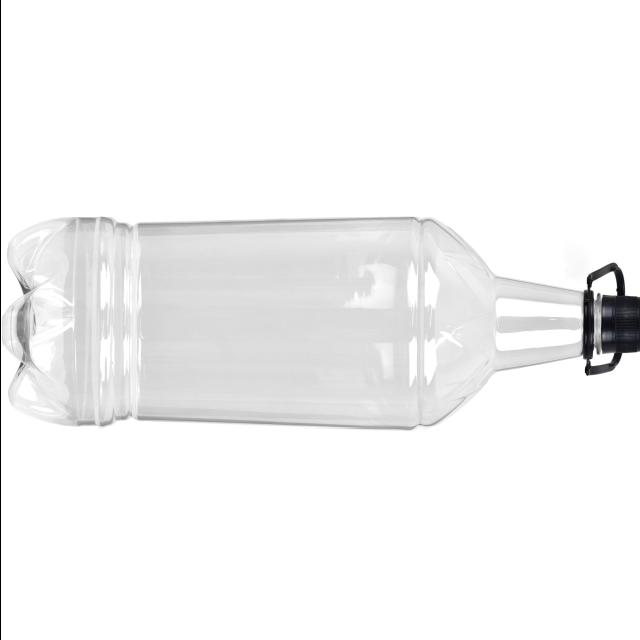bottle: (3, 217, 639, 428)
